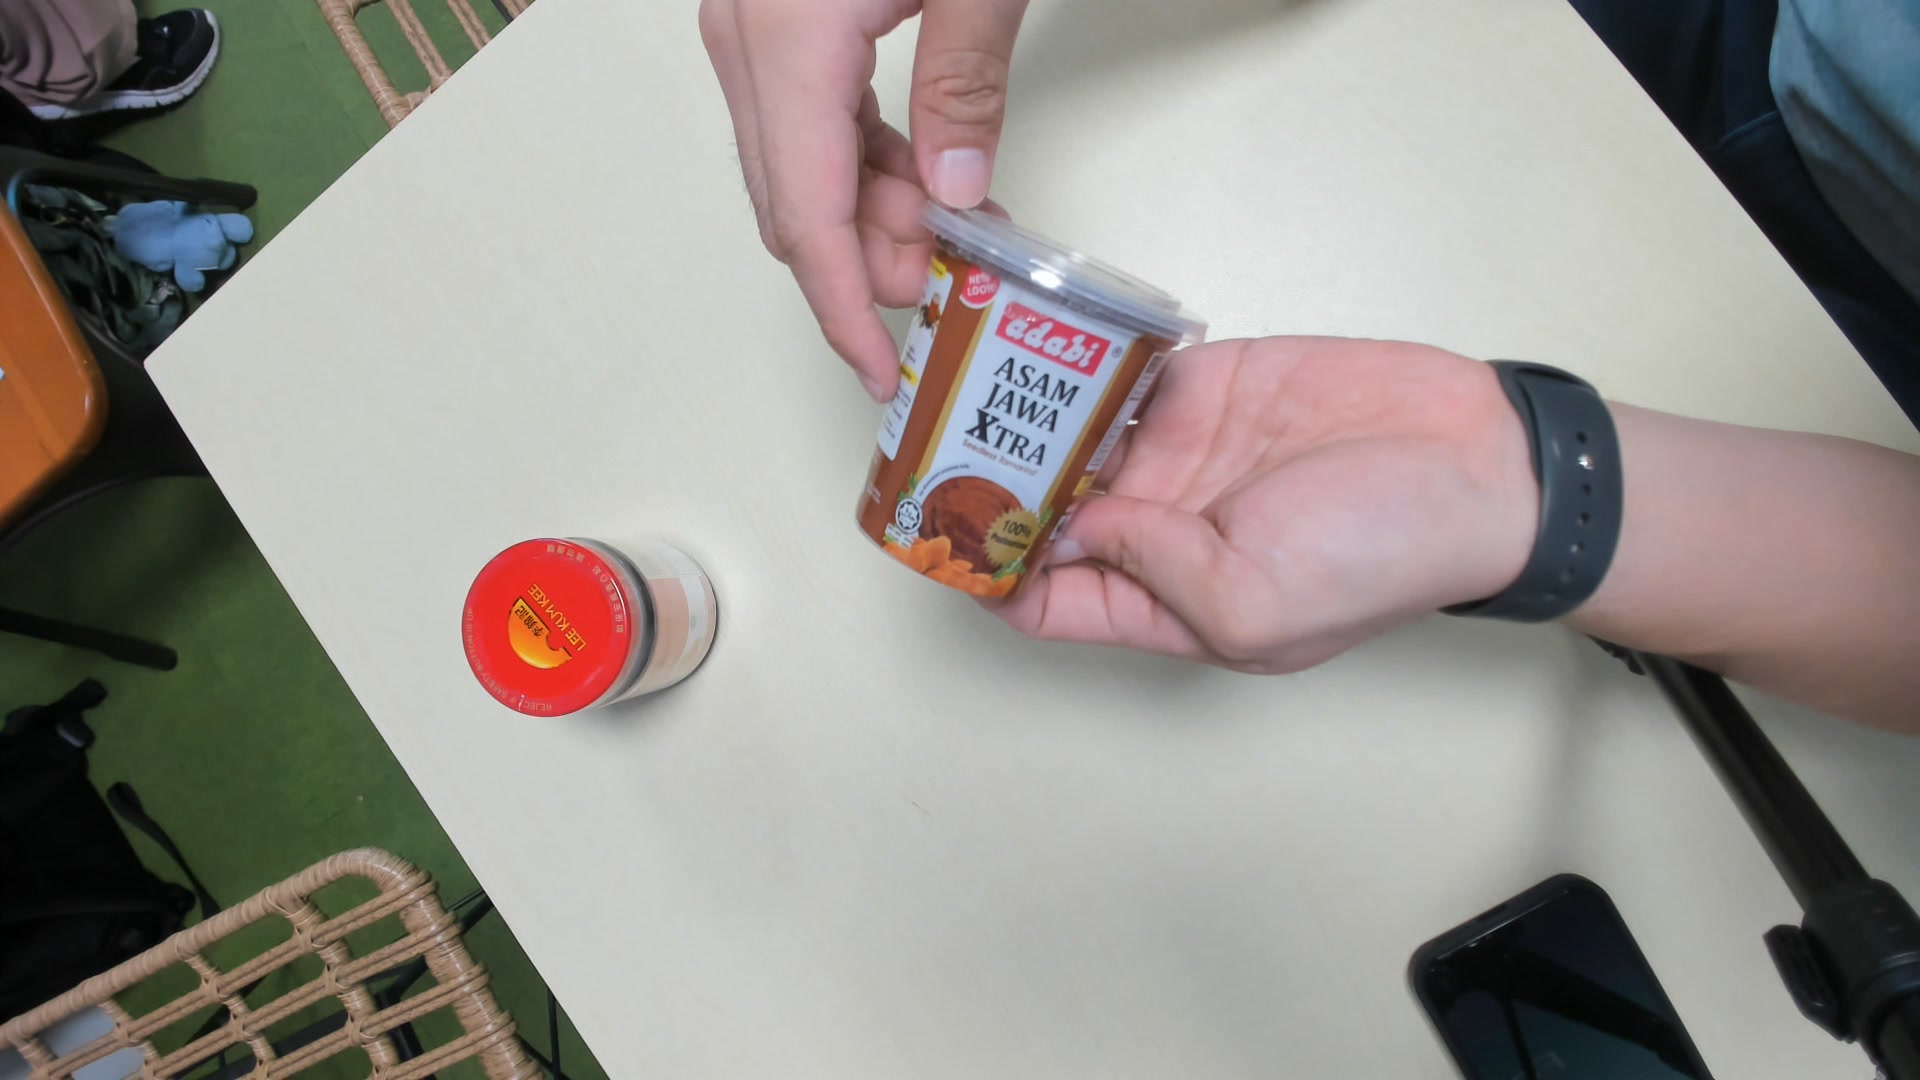OtherSauceDressing_200-299g_Halal_NonHealthy: (851, 193, 1203, 613)
